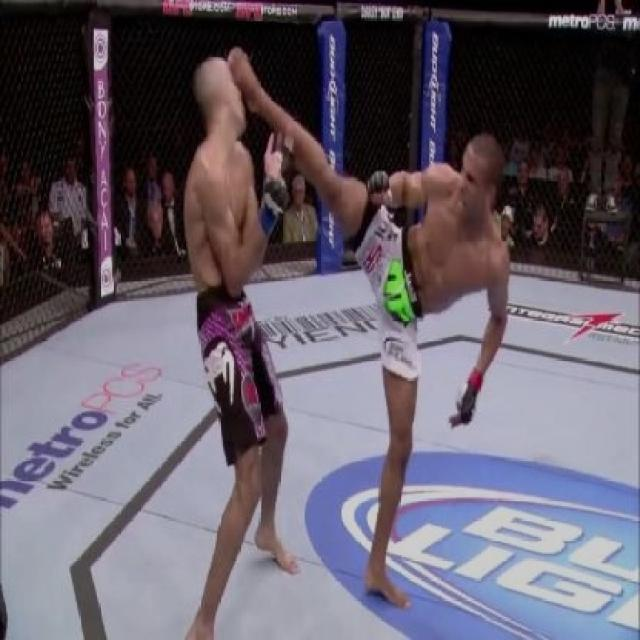fight: (156, 17, 544, 637)
